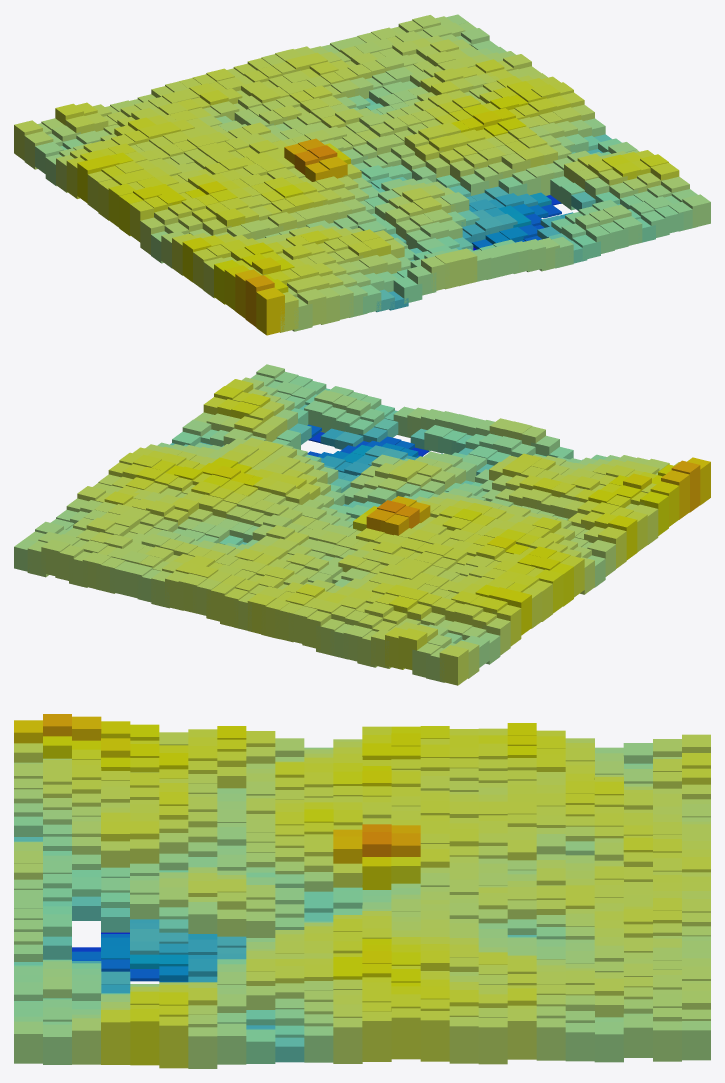
File: population.glb
3 renders of one model, top to bottom at view 1: azimuth 30°, elevation 25°; view 2: azimuth 150°, elevation 25°; view 3: azimuth 270°, elevation 25°, orthographic. The views are drawn at different scales.
Visible parts, largest first — view 1: population; view 2: population; view 3: population.
Boxes of the visible parts, left/top/right/bottom form: population: left=14, top=14, right=710, bottom=335; population: left=14, top=364, right=710, bottom=685; population: left=14, top=714, right=710, bottom=1068.
Bounding box in the file's own units: 2429 × 248 × 2395.
